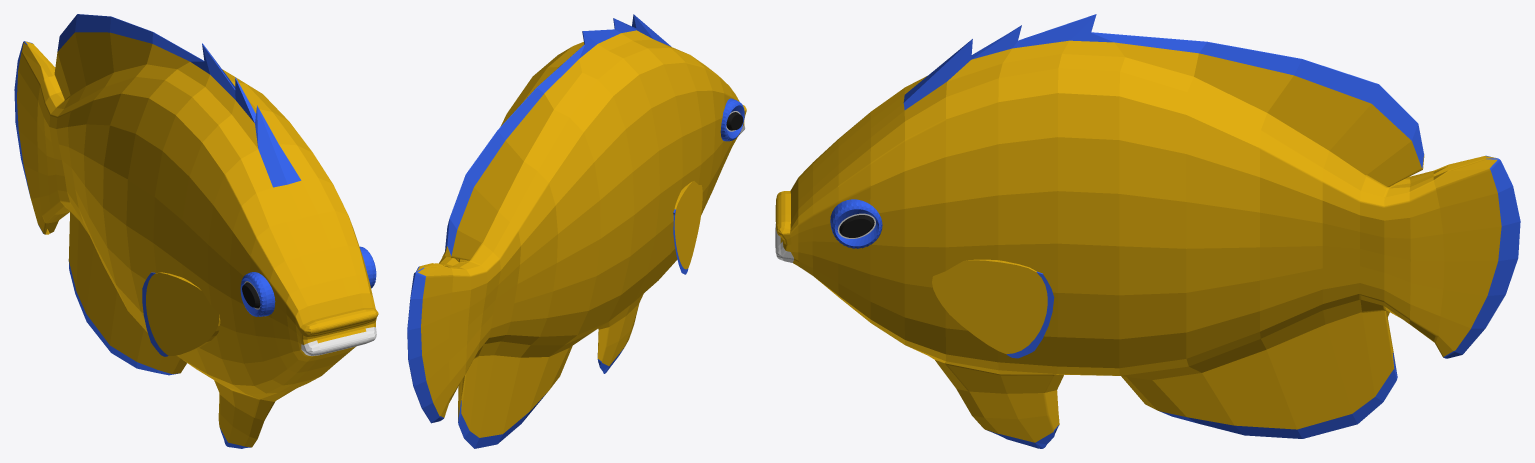
Rendered from model_Yellow_Fish.fbx.
3 renders of one model, left to right at view 1: azimuth 30°, elevation 25°; view 2: azimuth 150°, elevation 25°; view 3: azimuth 270°, elevation 25°, orthographic. The views are drawn at different scales.
Visible parts, largest first — view 1: yellowfish; view 2: yellowfish; view 3: yellowfish.
Part boxes in pixels (x1,y1,x2,y2): yellowfish: (14, 14, 378, 448); yellowfish: (407, 14, 746, 448); yellowfish: (775, 14, 1520, 448).
Bounding box in the file's own units: 28.57 × 65.93 × 102.
